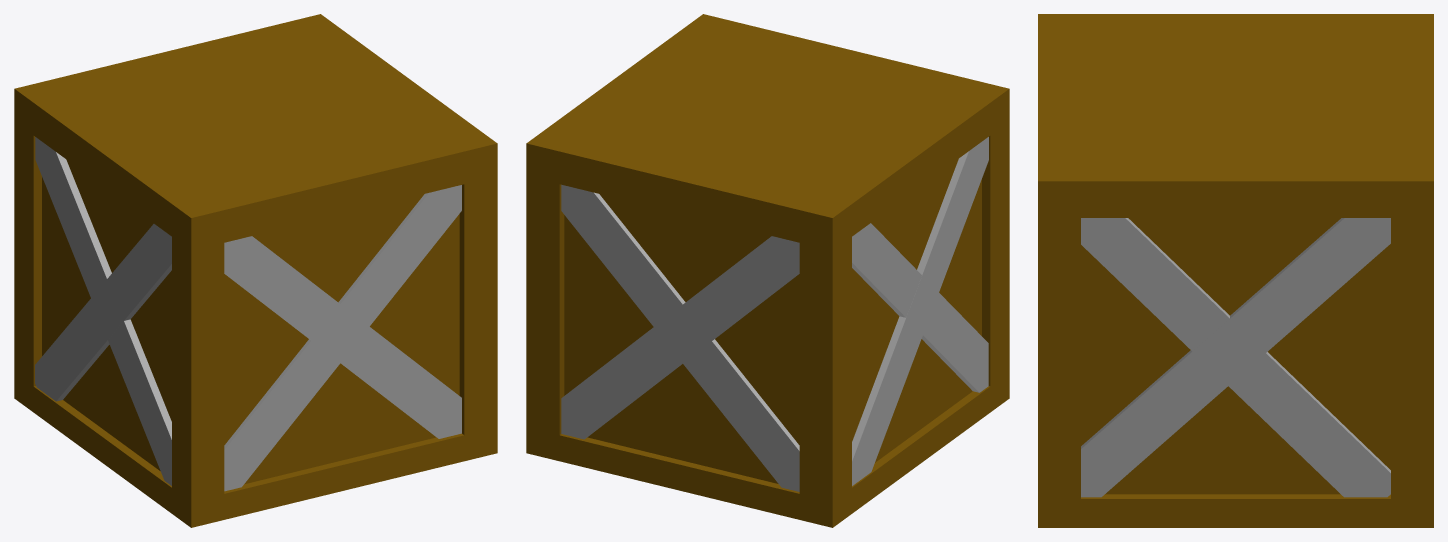
The model's file is Caja Grande X.fbx.
The picture shows the model from 3 angles, left to right: view 1: azimuth 30°, elevation 25°; view 2: azimuth 150°, elevation 25°; view 3: azimuth 270°, elevation 25°; orthographic projection. The views are drawn at different scales.
Visible parts, largest first — view 1: Caja_grande; view 2: Caja_grande; view 3: Caja_grande.
Boxes of the visible parts, box(x1,y1,x2,y2) form: Caja_grande: box(14, 14, 497, 527); Caja_grande: box(526, 14, 1009, 527); Caja_grande: box(1038, 14, 1433, 527).
Size of the model in its own units: 14.42 by 13.94 by 14.42.
